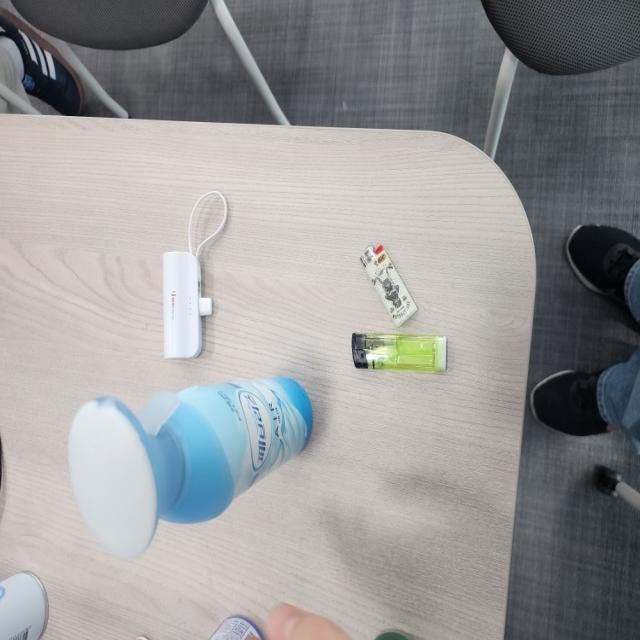lighter: (357, 241, 421, 335), (350, 329, 449, 375)
portable_charger: (164, 248, 214, 363)
spray: (66, 372, 314, 566)
